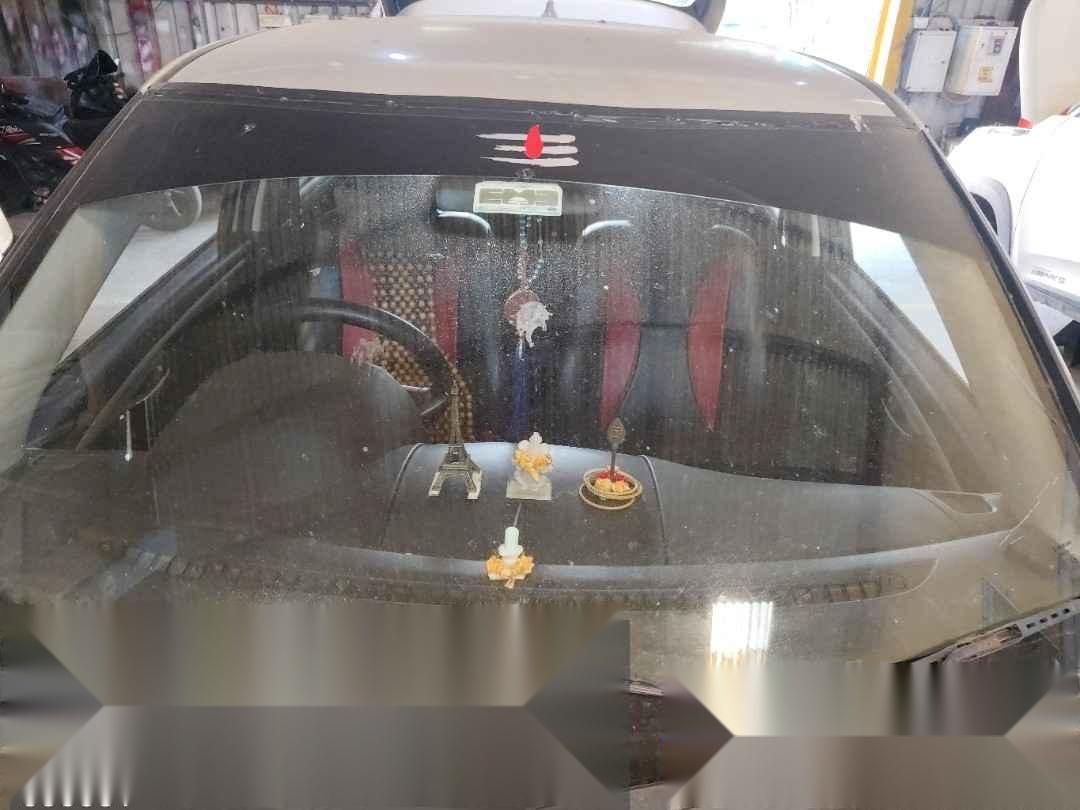FastTag: (447, 169, 592, 224)
